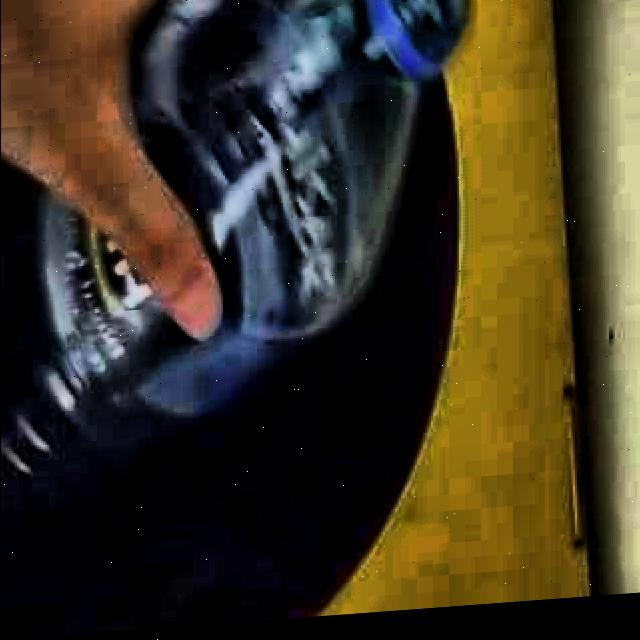plastic: (0, 0, 470, 478)
